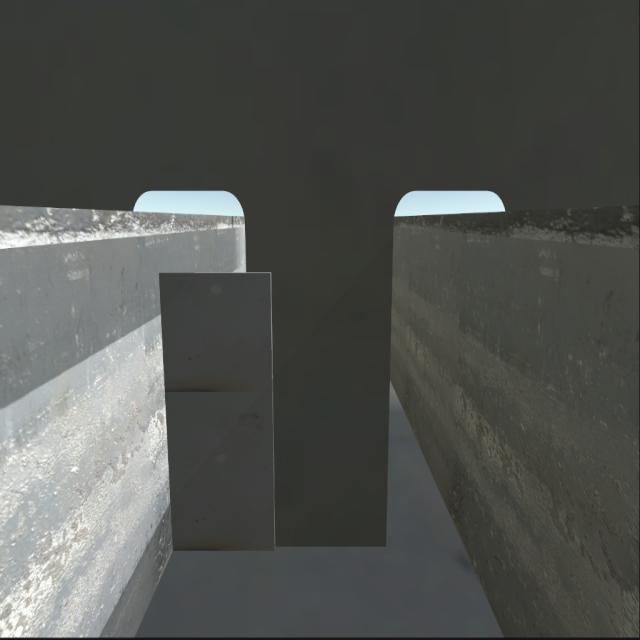fillet_yong_jeop_jang: (156, 533, 390, 567)
longi_yong_jeop_jang: (154, 259, 177, 553)
plate_CP01: (167, 275, 274, 553)
